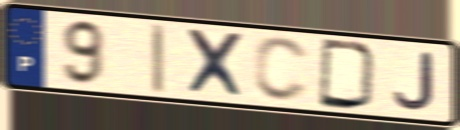9: (59, 18, 108, 88)
C: (251, 34, 312, 105)
D: (316, 36, 380, 113)
I: (149, 22, 167, 96)
J: (390, 50, 437, 113)
X: (182, 26, 250, 102)
